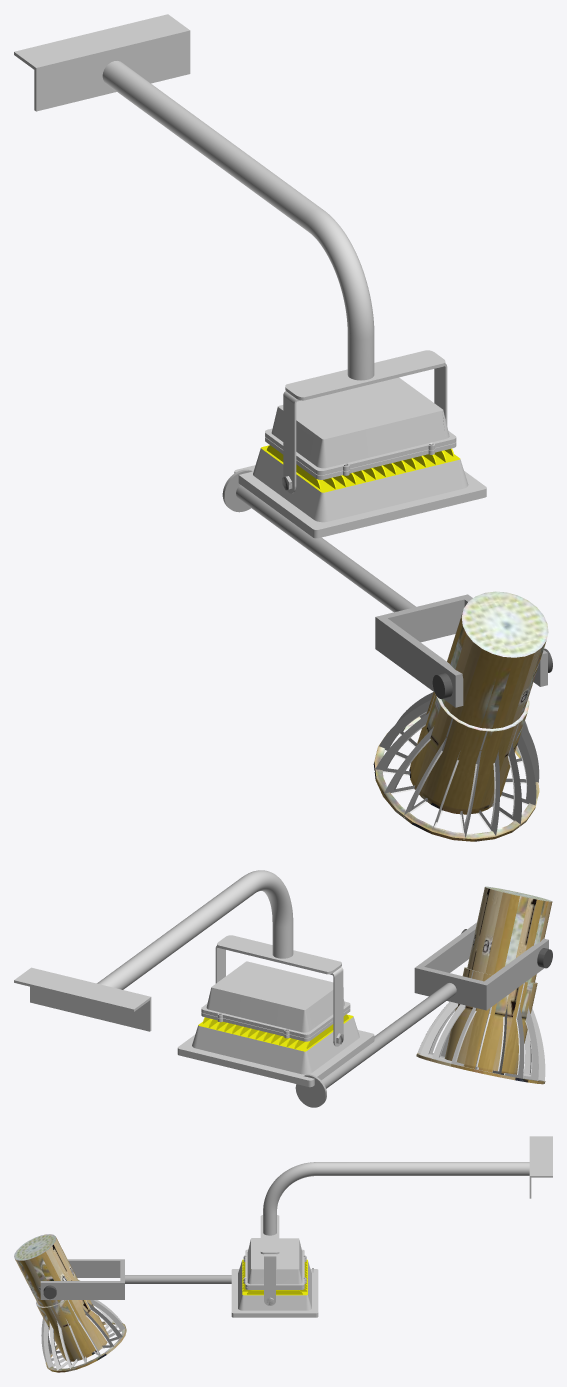
The model's file is arm-light.glb.
3 views of the same model, one above another, from view 1: azimuth 30°, elevation 25°; view 2: azimuth 150°, elevation 25°; view 3: azimuth 270°, elevation 25° (orthographic). The views are drawn at different scales.
Visible parts, largest first — view 1: 3DGeom-29, 3DGeom-36, 3DGeom-7, 3DGeom-25, 3DGeom-6, 3DGeom-35, 3DGeom-5, 3DGeom-2, 3DGeom-34, 3DGeom-28, 3DGeom-33; view 2: 3DGeom-29, 3DGeom-25, 3DGeom-36, 3DGeom-6, 3DGeom-7, 3DGeom-5, 3DGeom-35, 3DGeom-8 (×6), 3DGeom-2, 3DGeom-34, 3DGeom-28, 3DGeom-33 (+1 smaller); view 3: 3DGeom-36, 3DGeom-6, 3DGeom-25, 3DGeom-5, 3DGeom-7, 3DGeom-29, 3DGeom-35, 3DGeom-2, 3DGeom-33, 3DGeom-28, 3DGeom-34.
Boxes of the visible parts, <box> form: 3DGeom-29: <box>265,377,456,479</box>; 3DGeom-36: <box>102,61,374,380</box>; 3DGeom-7: <box>441,591,548,728</box>; 3DGeom-25: <box>234,448,486,538</box>; 3DGeom-6: <box>373,692,539,841</box>; 3DGeom-35: <box>14,14,190,111</box>; 3DGeom-5: <box>375,594,547,707</box>; 3DGeom-2: <box>236,485,415,612</box>; 3DGeom-34: <box>285,350,445,400</box>; 3DGeom-28: <box>261,445,460,492</box>; 3DGeom-33: <box>283,363,447,493</box>; 3DGeom-29: <box>201,961,350,1041</box>; 3DGeom-25: <box>177,1017,374,1087</box>; 3DGeom-36: <box>97,870,293,989</box>; 3DGeom-6: <box>416,967,545,1084</box>; 3DGeom-7: <box>467,886,552,982</box>; 3DGeom-5: <box>414,922,548,1010</box>; 3DGeom-35: <box>14,967,151,1031</box>; 3DGeom-8 (×6): <box>420,970,545,1081</box>; 3DGeom-2: <box>321,983,456,1088</box>; 3DGeom-34: <box>217,935,341,974</box>; 3DGeom-28: <box>198,1014,353,1051</box>; 3DGeom-33: <box>215,946,343,1046</box>; 3DGeom-36: <box>263,1162,529,1235</box>; 3DGeom-6: <box>36,1279,126,1372</box>; 3DGeom-25: <box>231,1260,318,1317</box>; 3DGeom-5: <box>40,1259,124,1299</box>; 3DGeom-7: <box>14,1234,78,1306</box>; 3DGeom-29: <box>243,1238,306,1289</box>; 3DGeom-35: <box>529,1136,552,1198</box>; 3DGeom-2: <box>125,1275,231,1283</box>; 3DGeom-33: <box>264,1254,276,1305</box>; 3DGeom-28: <box>242,1259,307,1295</box>; 3DGeom-34: <box>260,1215,279,1254</box>.
Bounding box in the file's own units: 0.158 × 0.2694 × 0.5763.
8 materials, 4 textured.
